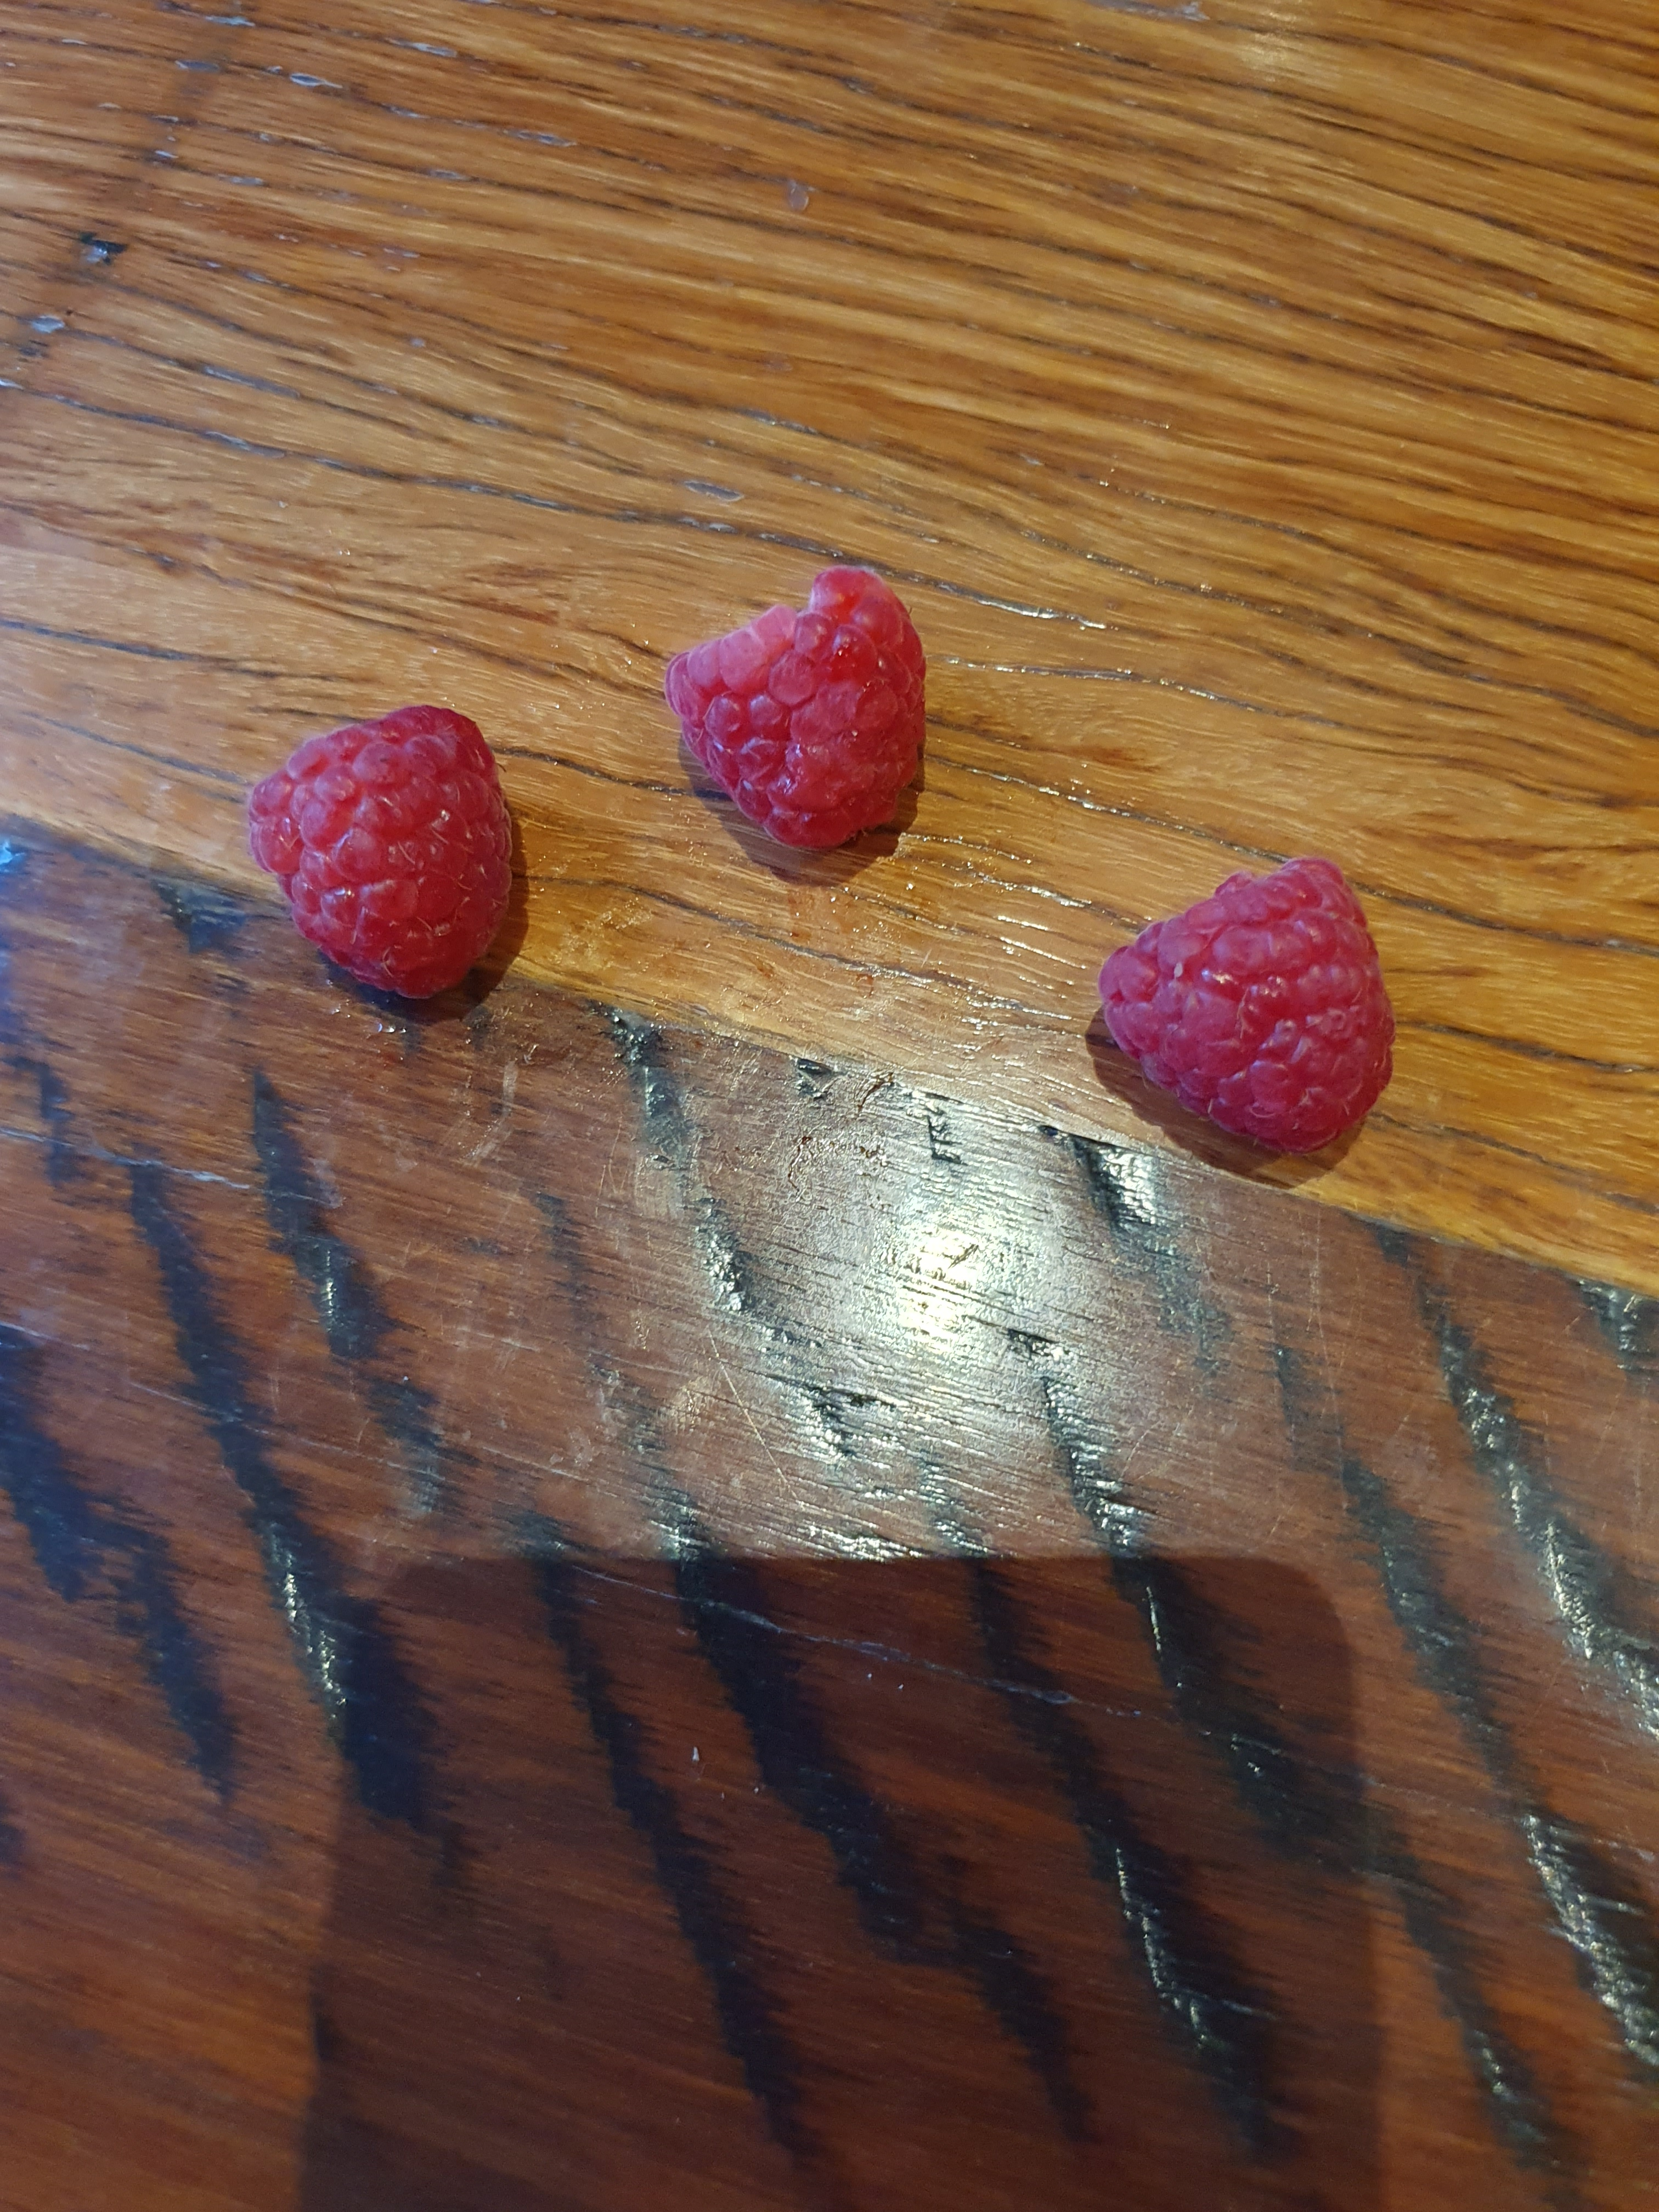raspberry: (1061, 805, 1420, 1169), (619, 568, 957, 881), (223, 669, 547, 993)
